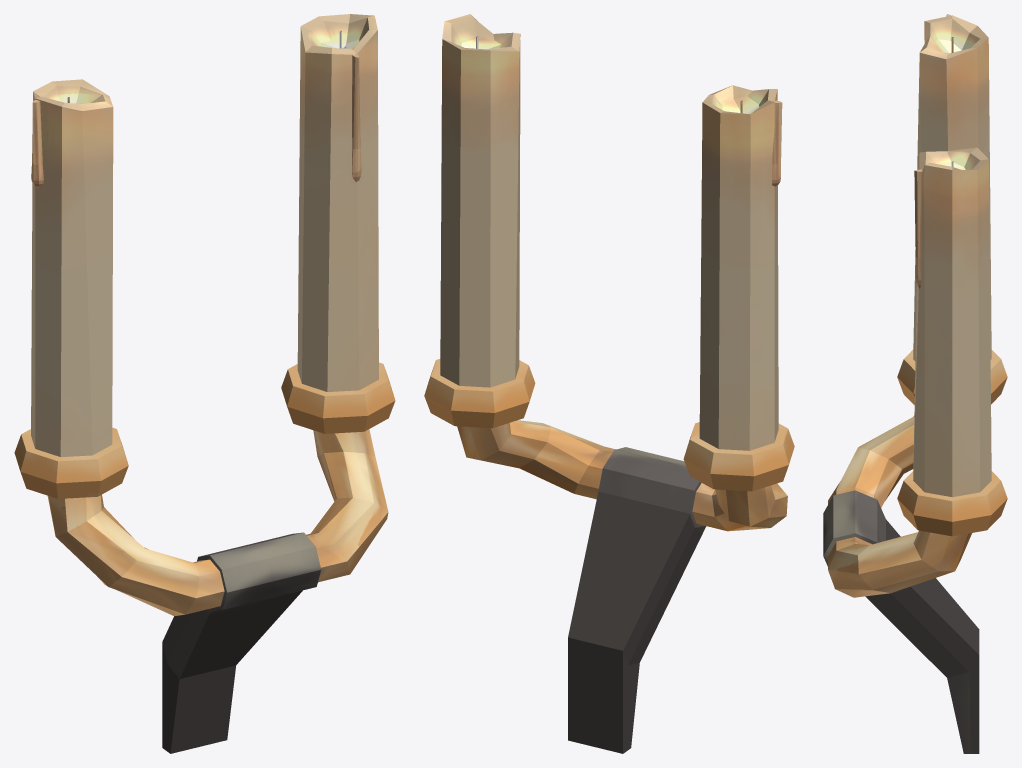
The model's file is candle holder .fbx.
3 views of the same model, side by side, from view 1: azimuth 30°, elevation 25°; view 2: azimuth 150°, elevation 25°; view 3: azimuth 270°, elevation 25° (orthographic). The views are drawn at different scales.
Visible parts, largest first — view 1: candelabro; view 2: candelabro; view 3: candelabro.
Boxes of the visible parts, <box> form: candelabro: <box>14,14,395,753</box>; candelabro: <box>424,14,794,753</box>; candelabro: <box>823,14,1007,753</box>.
Bounding box in the file's own units: 10.9 × 19.6 × 5.05.
